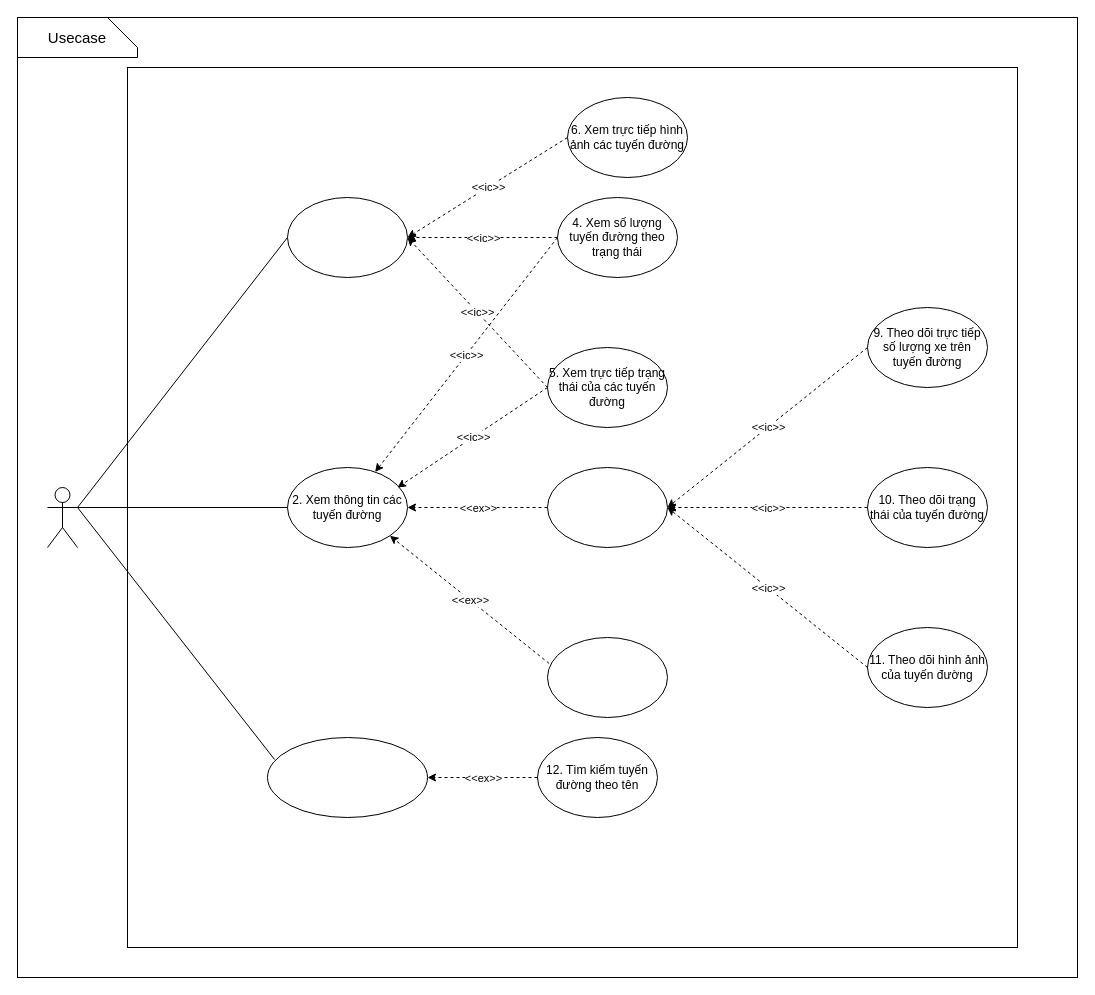
This 1095x995 diagram has some shape labels left out. Each missing label, with the centre of its shape:
"1. Xem trang chủ" goes at (x=347, y=237).
"3. Theo dõi tình trạng giao thông các tuyến đường" goes at (x=347, y=777).
"7. Lọc các tuyến đường theo trạng thái" goes at (x=607, y=677).
"8. Xem thông tin cụ thể 1 tuyến đường" goes at (x=607, y=507).
"User" goes at (x=62, y=517).
